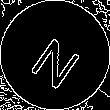N_NE: (24, 23, 86, 87)
